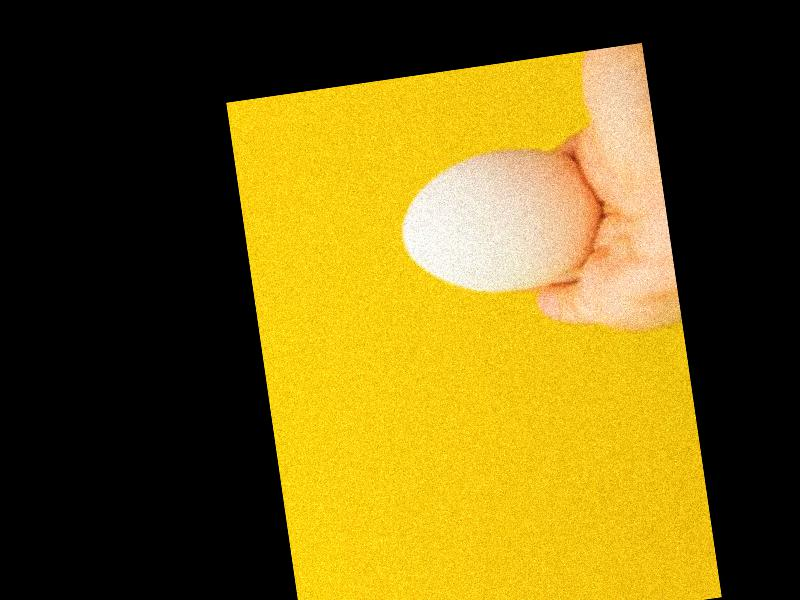Eggs: (391, 143, 608, 304)
